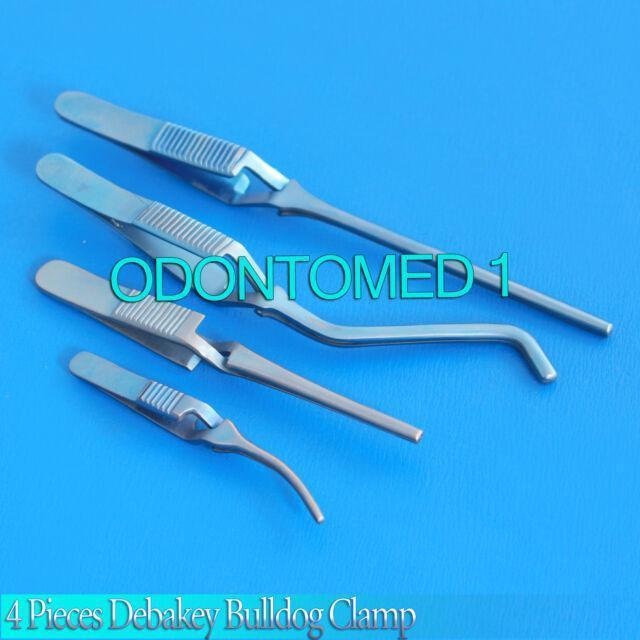Bulldog: (51, 87, 615, 340), (32, 148, 561, 388), (31, 254, 424, 449), (65, 347, 328, 531)
